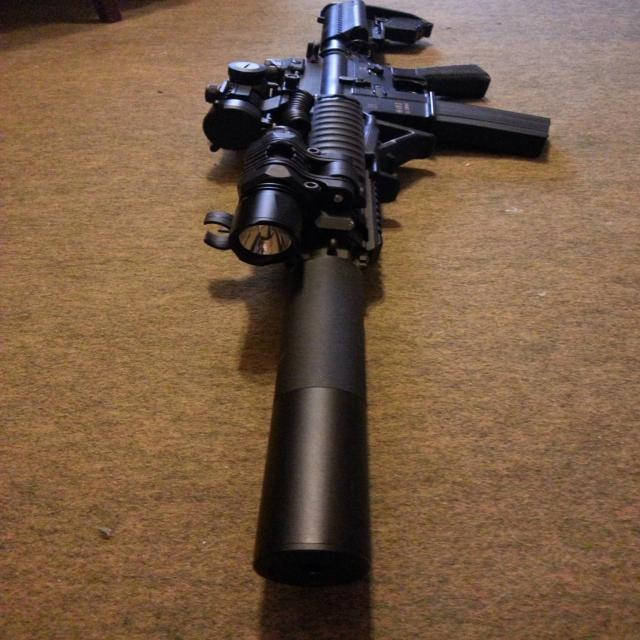firearm: (197, 0, 555, 588)
